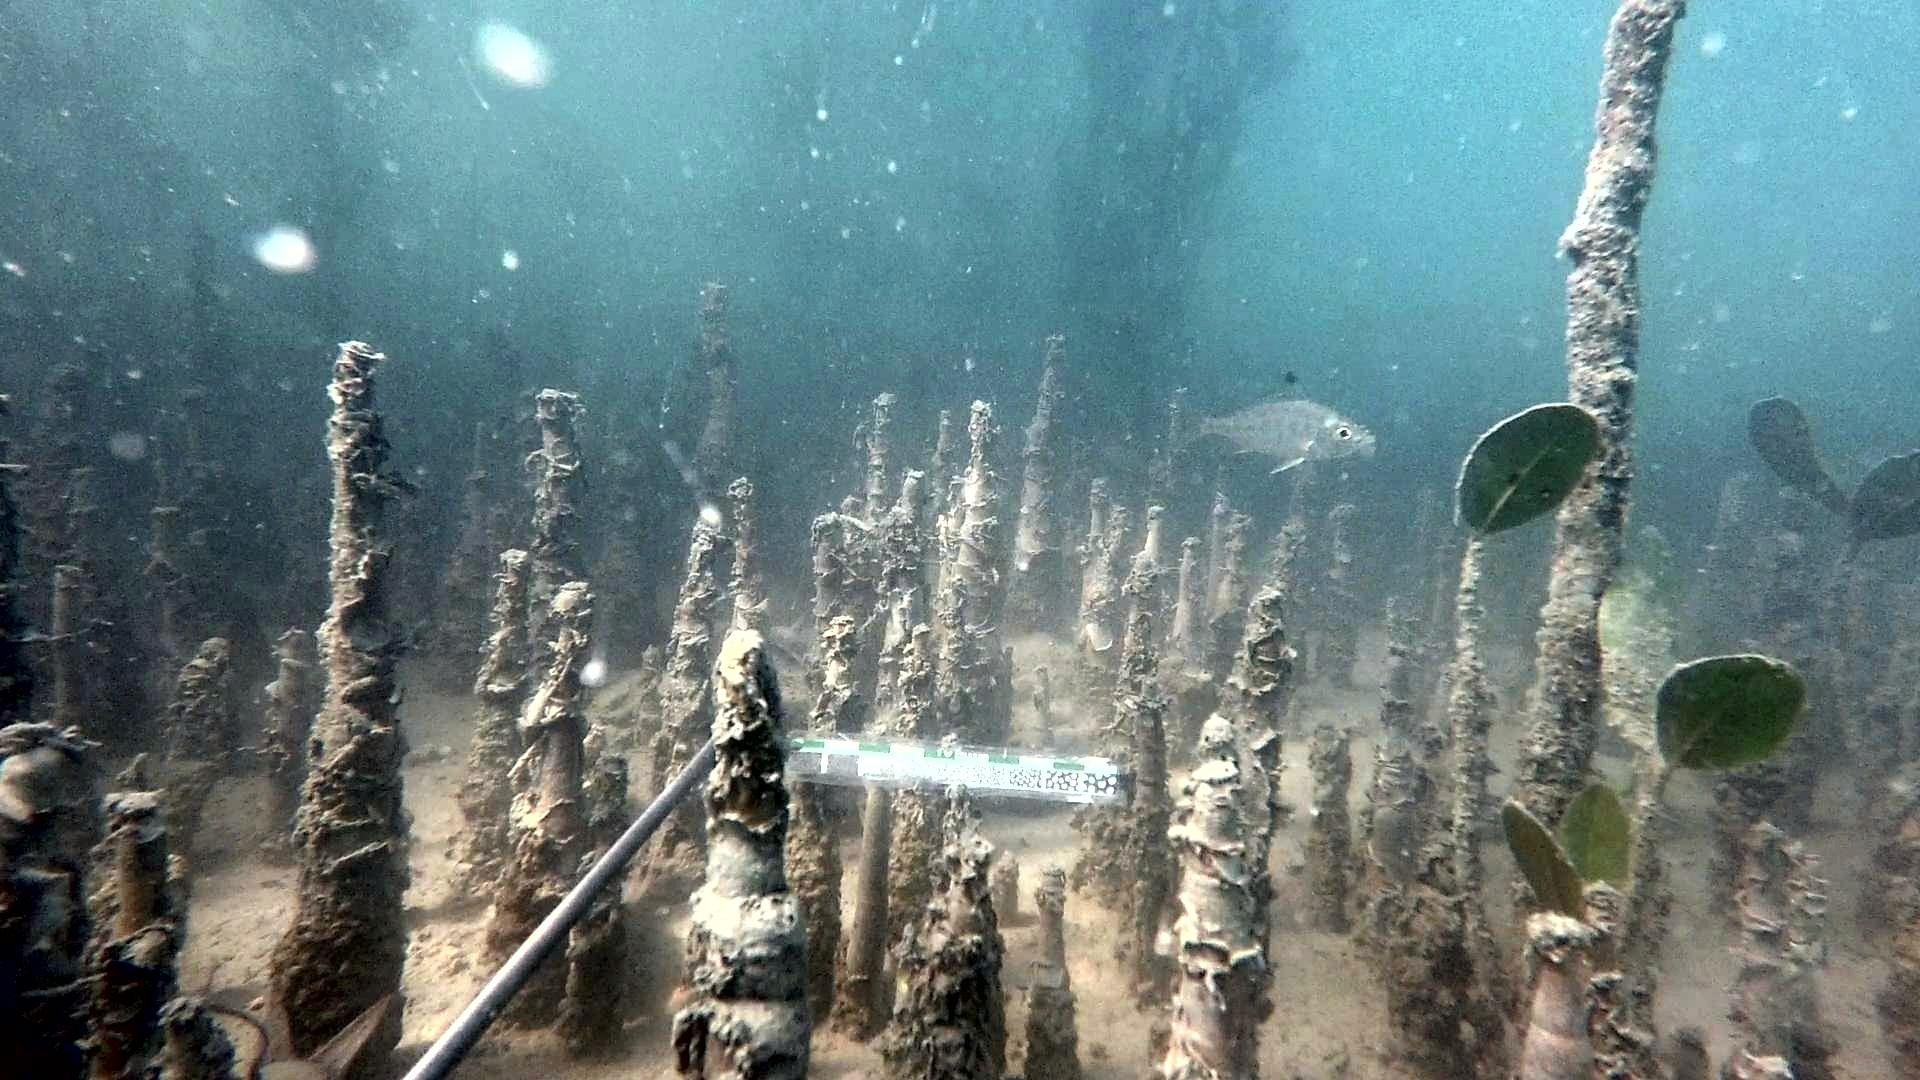gerres: (1160, 367, 1373, 476)
